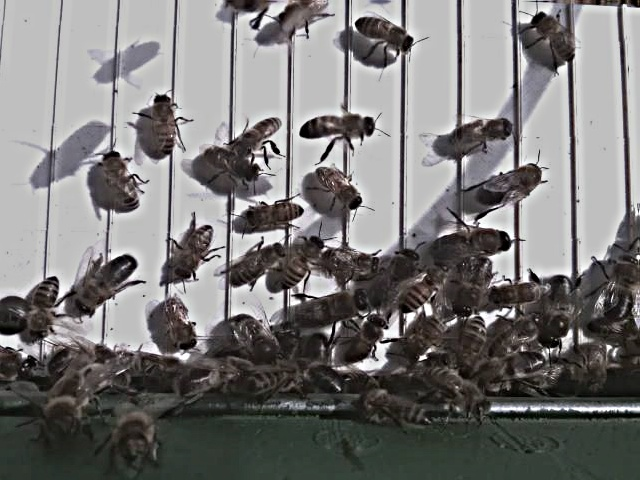Drone: (74, 249, 140, 316), (291, 283, 370, 332), (428, 223, 518, 264), (535, 270, 581, 350), (474, 159, 547, 208), (598, 248, 640, 323)
Worker: (229, 239, 290, 286), (298, 109, 378, 144), (355, 12, 420, 55), (447, 113, 516, 153), (313, 162, 368, 211), (282, 230, 326, 290), (103, 148, 143, 213), (398, 265, 450, 315), (531, 9, 579, 63), (173, 220, 216, 280), (30, 271, 64, 343), (202, 148, 266, 186), (320, 241, 383, 278), (243, 195, 307, 229), (162, 296, 200, 353), (233, 113, 286, 152), (150, 89, 180, 157)
